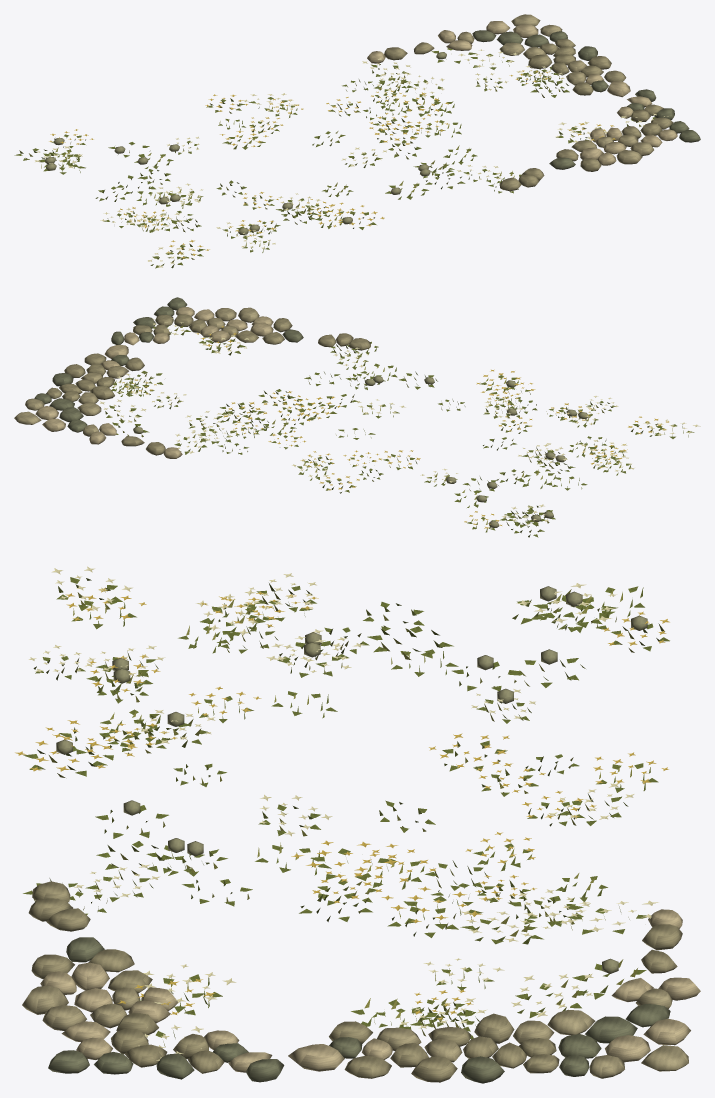
Rendered from detail-patch-04-01.fbx.
The picture shows the model from 3 angles, top to bottom: view 1: azimuth 30°, elevation 25°; view 2: azimuth 150°, elevation 25°; view 3: azimuth 270°, elevation 25°; orthographic projection. The views are drawn at different scales.
Parts seen in each view (by area): view 1: detail-patch-04-01__Geometry; view 2: detail-patch-04-01__Geometry; view 3: detail-patch-04-01__Geometry.
Part boxes in pixels (x1,y1,x2,y2): detail-patch-04-01__Geometry: [14, 14, 700, 268]; detail-patch-04-01__Geometry: [14, 297, 700, 537]; detail-patch-04-01__Geometry: [15, 566, 700, 1083].
Bounding box in the file's own units: 9.27 × 0.1214 × 5.28.
